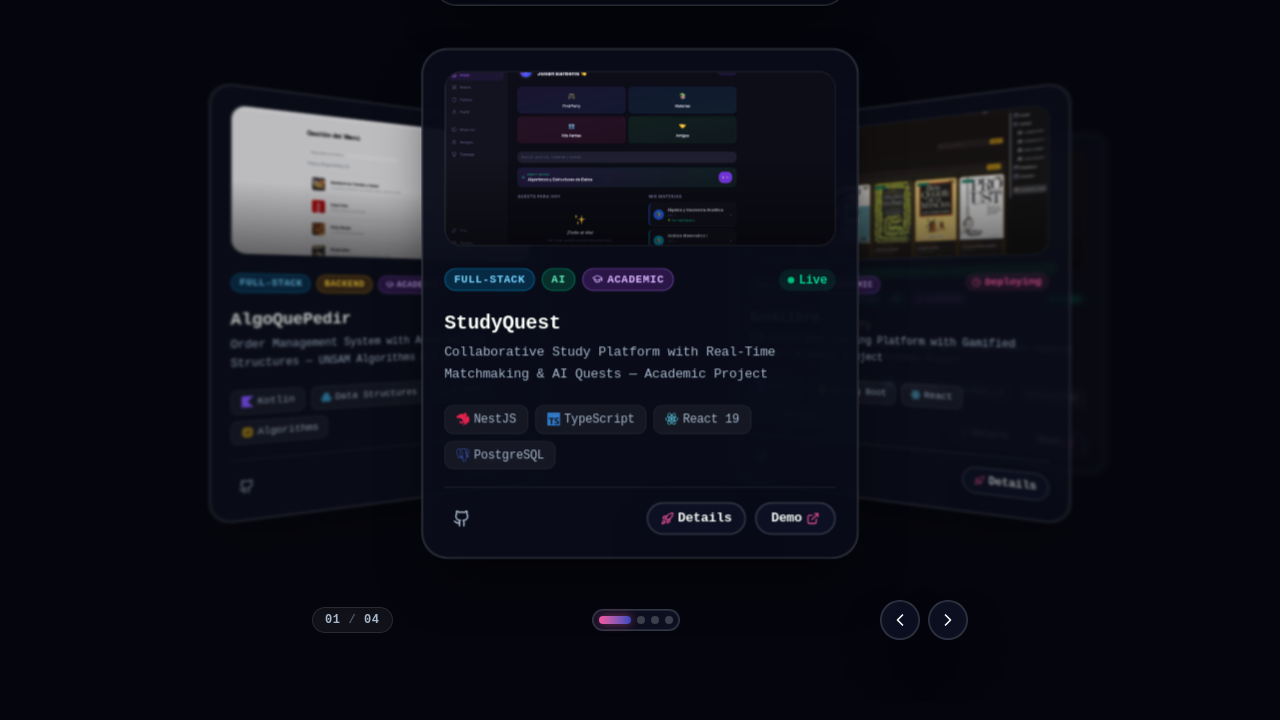
Test: Projects Component (src/components/Projects.tsx) › ProjectModal Opening and Closing › opens ProjectModal in English with localized content and demo link
(page scrolled)
Click the button "Details" below "NestJS": (696, 518) 646,502 -> 746,534
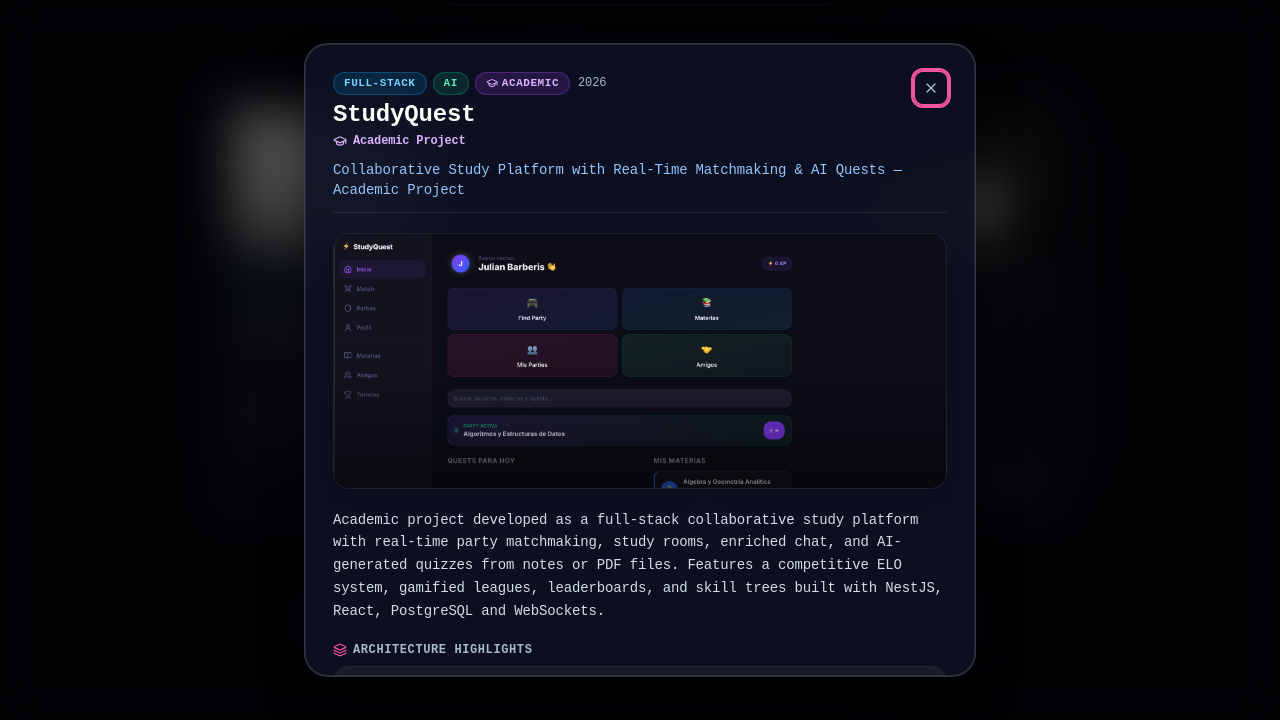
Check: the dialog is shown
Check: the text "Architecture Highlights" is shown, box 353,642 -> 532,658
Close modal using top X close button
Click the button named "Close": (931, 88) 915,72 -> 947,104
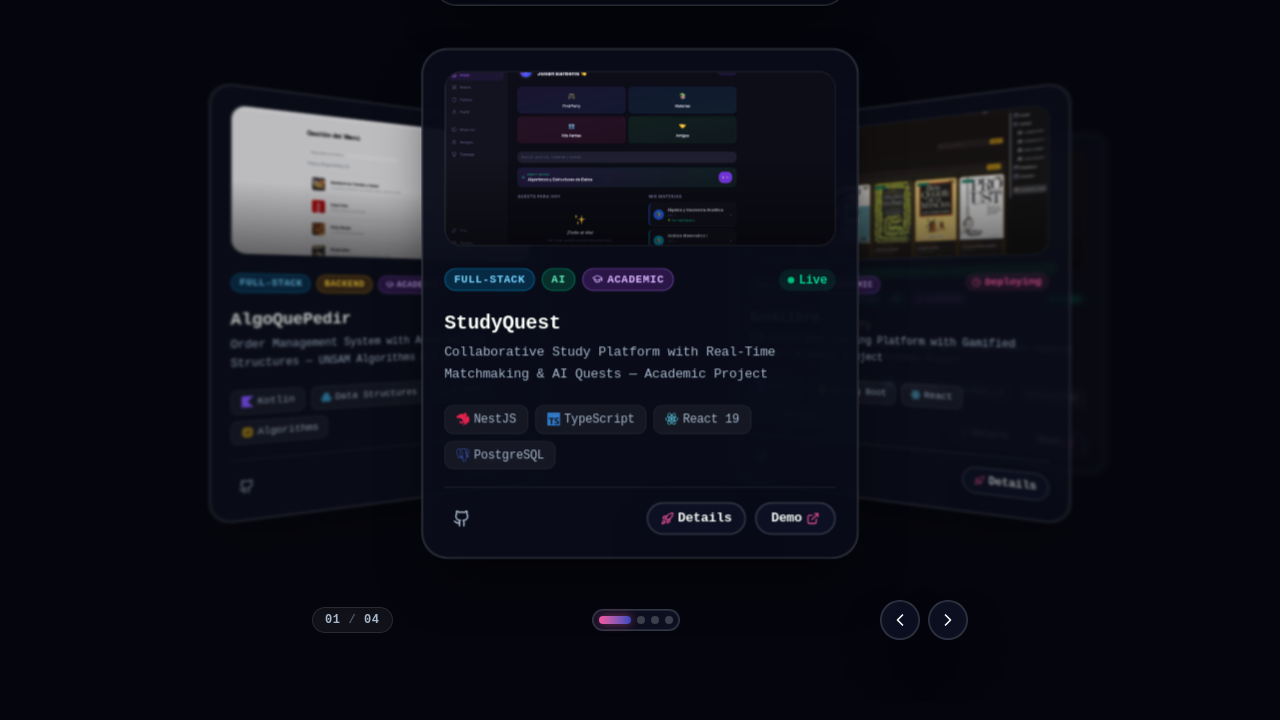
Check: the dialog is gone
